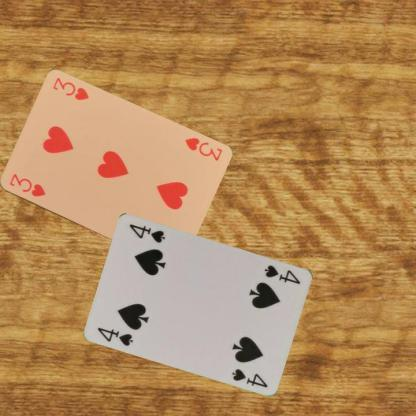3h: (182, 134, 223, 162), (6, 171, 47, 198)
4s: (262, 262, 302, 286), (95, 324, 135, 347)
